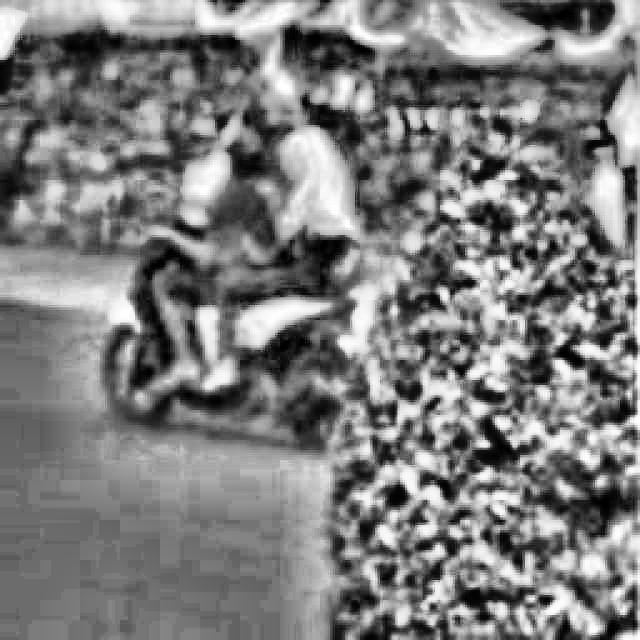motorcycle: (106, 187, 387, 445)
